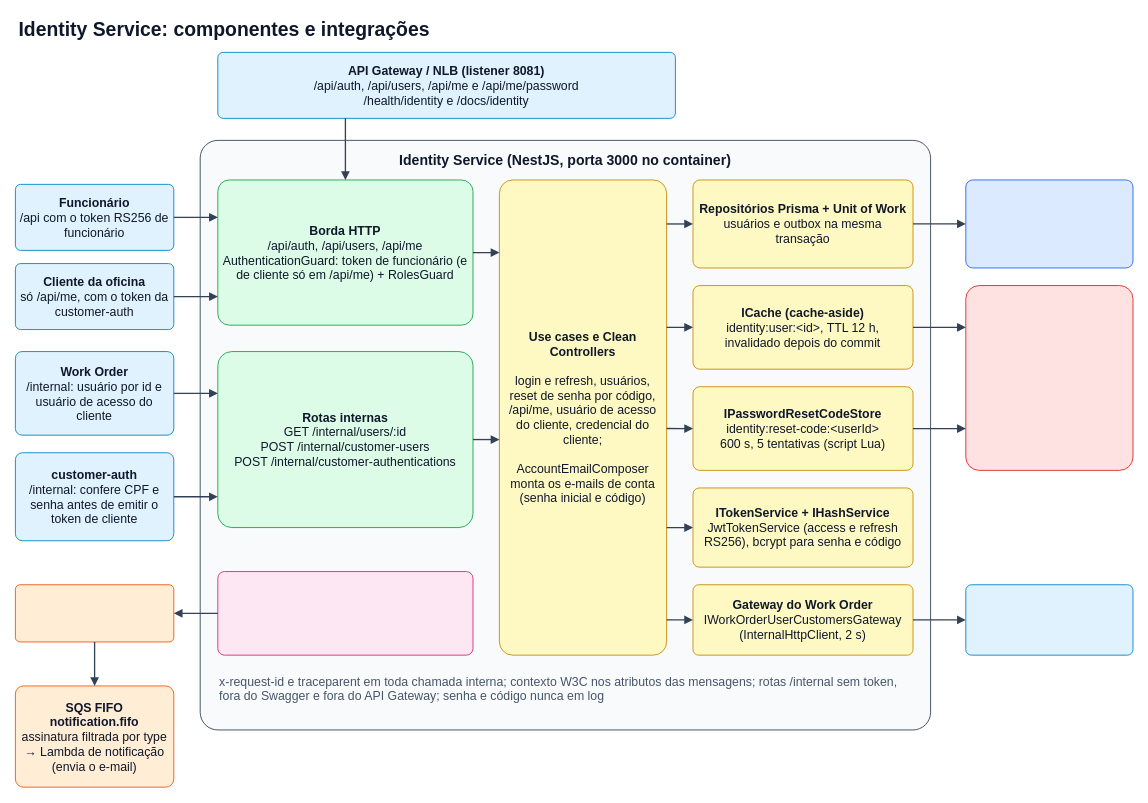
Image size: 1148x803. Some labels were removed from this diagram. The shapes that lost their labels are listed below. From the top down, each one's centre as x and y in pixels, then its label:
At [1049,223]: "PostgreSQL 18 users, outbox (SQL pelo Prisma)".
At [1049,377]: "Valkey 9.1 (ElastiCache, via ioredis) cache de usuário e códigos de reset".
At [94,613]: "SNS FIFO oficina-events.fifo".
At [345,613]: "Outbox relay 500 ms, lote de 10, advisory lock; publica no SNS e apaga o outbox".
At [1049,619]: "Work Order GET /internal/users/ :userId/customers".
